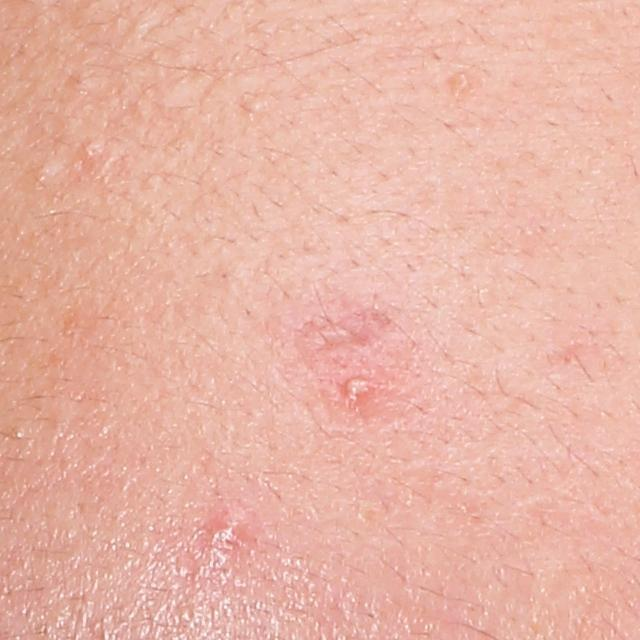comedo: (31, 159, 58, 185)
papule: (191, 510, 262, 580)
pustule: (329, 364, 385, 421)
